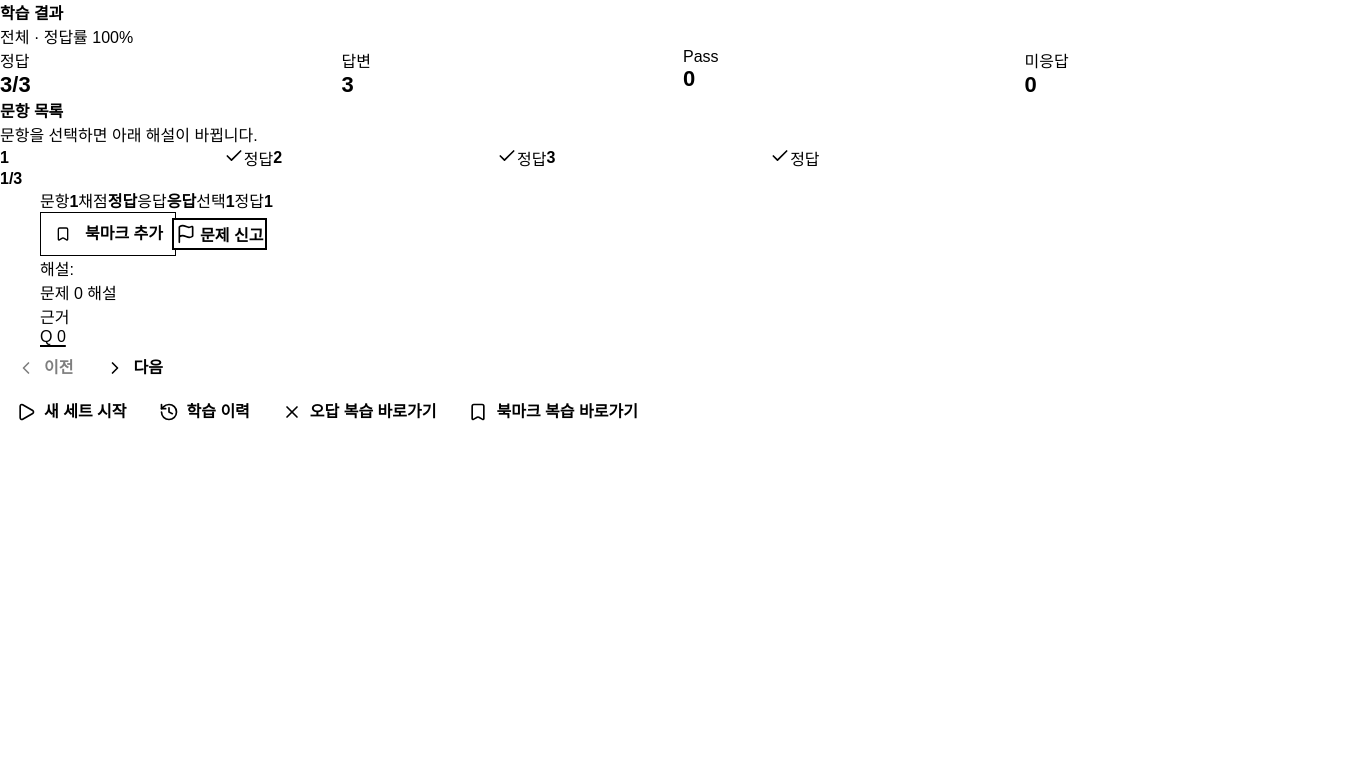
Scenario: 결과 문항 정보·액션 그룹 구조 (#232 후속) › 북마크·신고 버튼이 44px·키보드 접근·상태 구분을 갖는다
Expected: the button "북마크 추가" is enabled, [40,212,176,256]
Click the button "문제 신고". click: (220, 234)
box: [176,222,263,246]
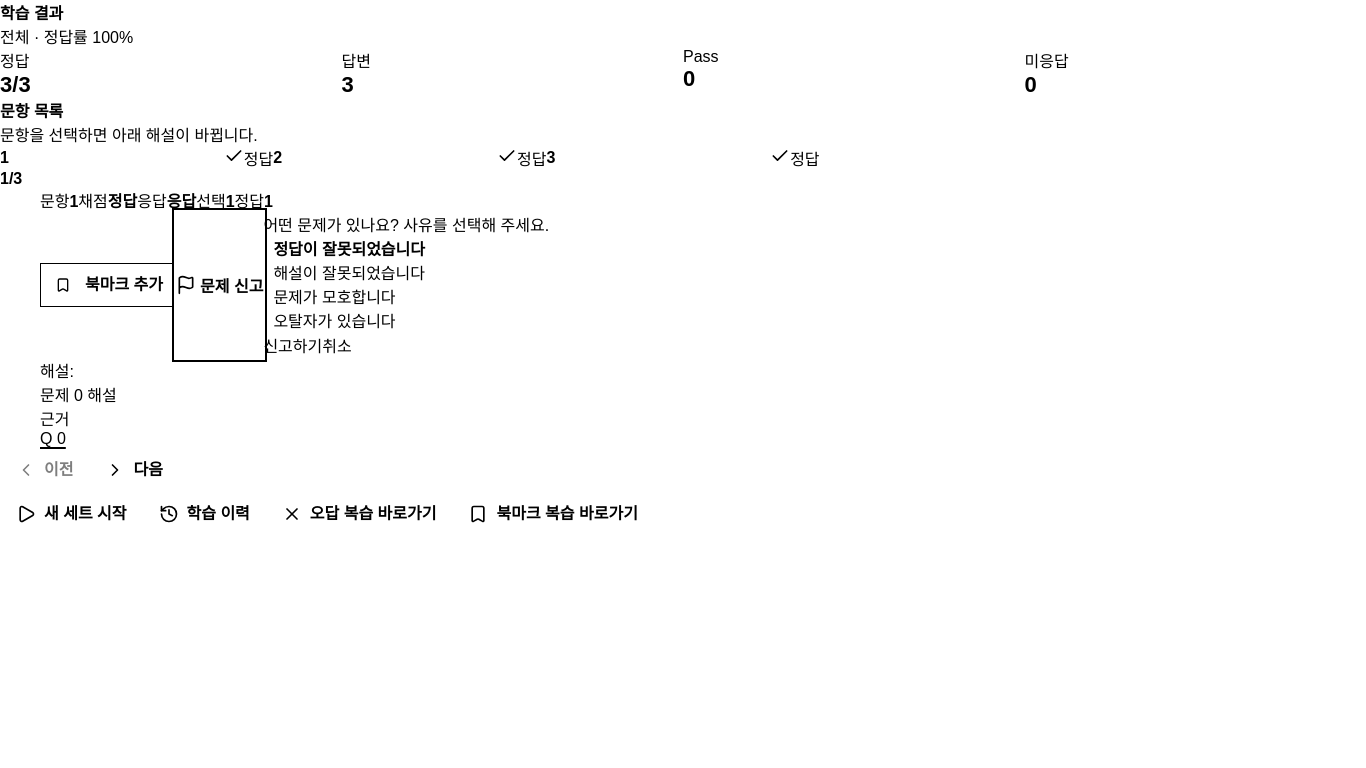
Expected: the dialog named "문제 신고" is shown, [263,212,549,358]
